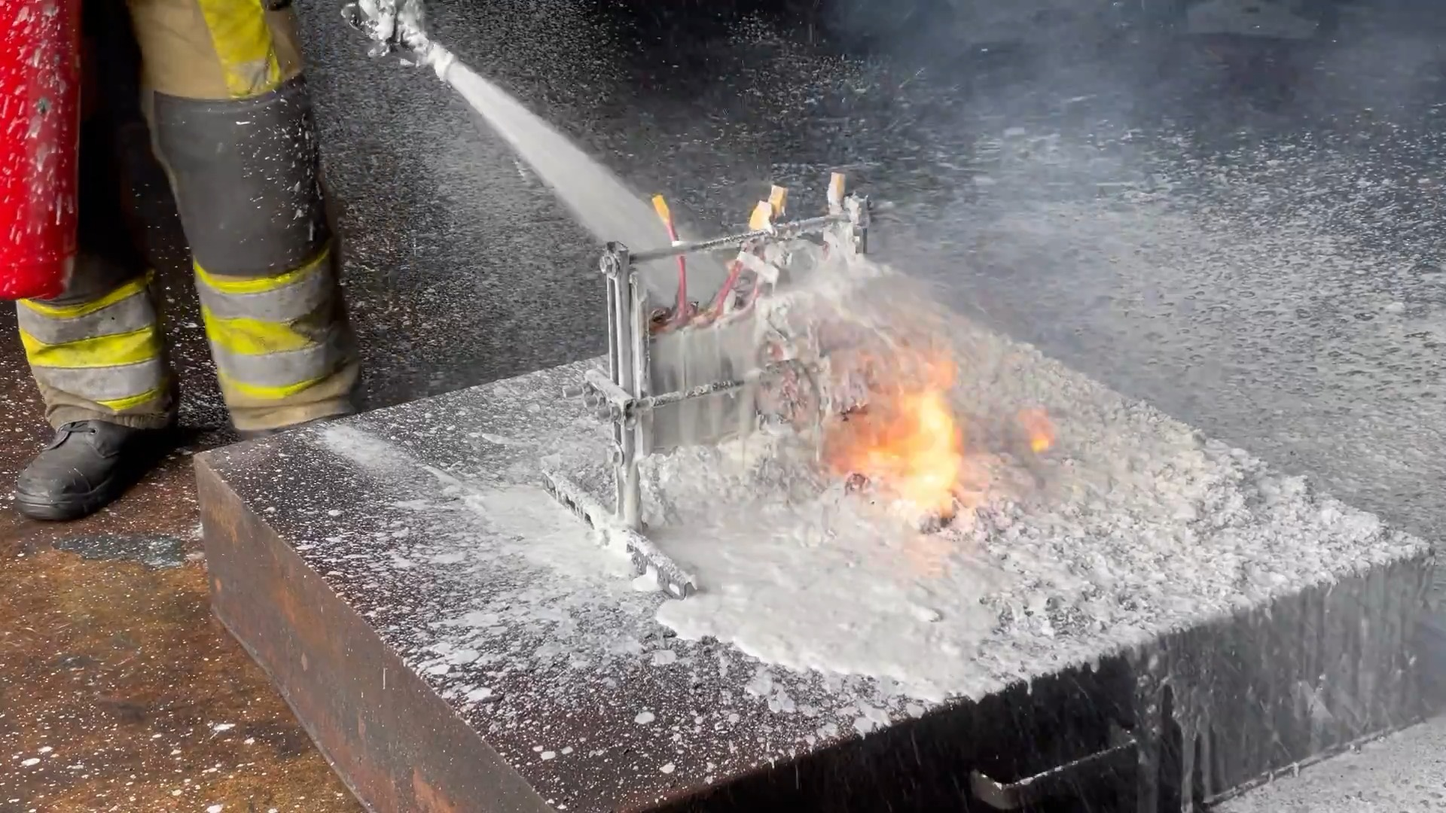fire: (822, 344, 996, 531), (1023, 410, 1057, 460)
smoke: (821, 0, 1167, 245)
